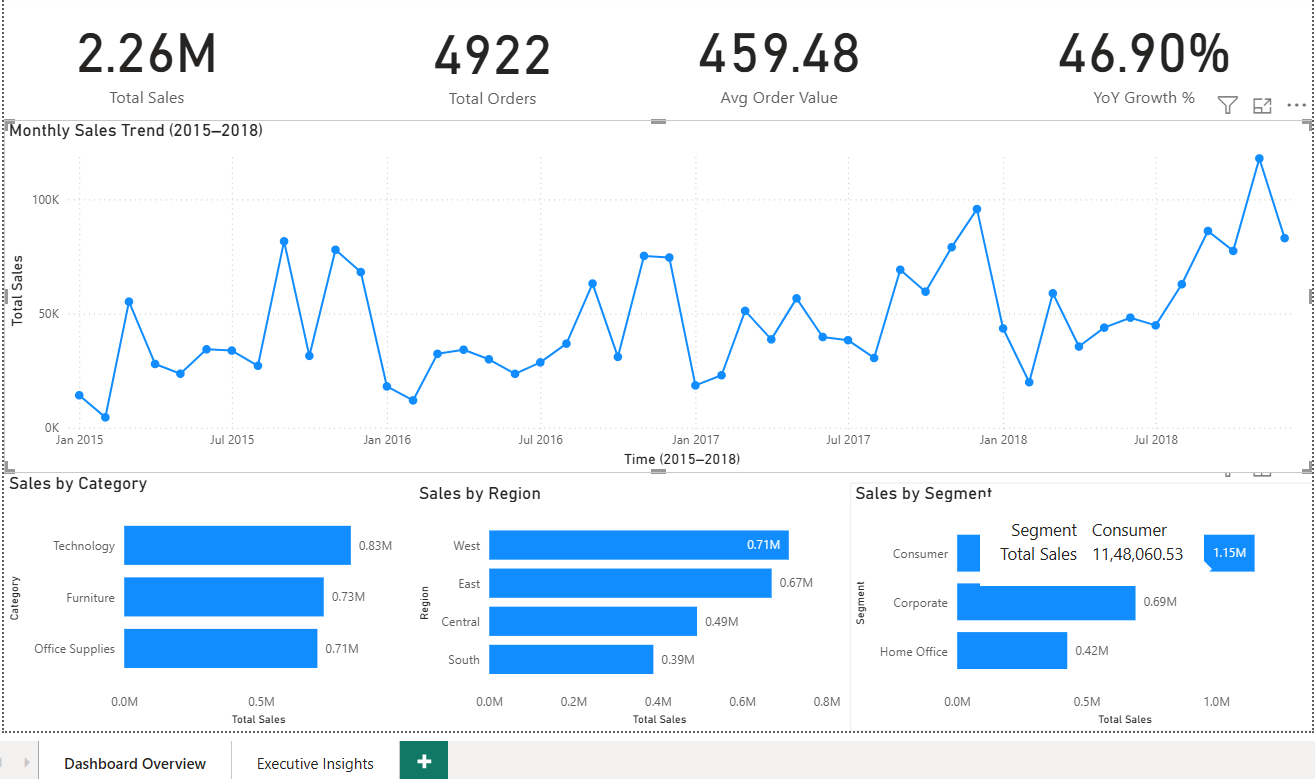

What the dashboard file says about the page in this screenshot:
{"tool":"powerbi","page":{"name":"Sales Performance Dashboard","canvas":[1280,720],"ordinal":0},"visuals":[{"type":"card","fields":{"Values":["DateTable.Total Sales"]},"box":[0,0,280,121.4],"z":0},{"type":"card","fields":{"Values":["DateTable.YoY Growth %"]},"box":[951.2,0,328.8,121.2],"z":1000},{"type":"card","fields":{"Values":["DateTable.Total Orders"]},"box":[317.1,1.4,322.9,121.4],"z":2000},{"type":"card","fields":{"Values":["DateTable.Avg Order Value"]},"box":[577.1,0,362.9,121.4],"z":3000},{"type":"lineChart","title":"Monthly Sales Trend (2015–2018)","fields":{"Category":["DateTable.MonthStart1"],"Y":["DateTable.Total Sales"]},"box":[0,157.7,1280.3,309.4],"z":4000},{"type":"clusteredBarChart","title":"Sales by Category","fields":{"Category":["train.Category"],"Y":["DateTable.Total Sales"]},"box":[0,467.5,400,252.5],"z":5000},{"type":"clusteredBarChart","title":"Sales by Region","fields":{"Category":["train.Region"],"Y":["DateTable.Total Sales"]},"box":[401.2,477.5,426.2,242.5],"z":6000},{"type":"clusteredBarChart","title":"Sales by Segment","fields":{"Category":["train.Segment"],"Y":["DateTable.Total Sales"]},"box":[827.5,477.5,452.5,242.5],"z":7000},{"type":"slicer","fields":{"Values":["DateTable.Year"]},"box":[0,121.1,1266.9,36.7],"z":7001}]}

Visuals, with their boxes on the page's 1280x720 design canvas (x1, y1, x2, y2). These are canvas units, not pixel positions in the 1315x779 screenshot, which may show the page scaled, cropped or inside an application window:
card - DateTable.Total Sales: pyautogui.locateOnScreen(0, 0, 280, 121)
card - DateTable.YoY Growth %: pyautogui.locateOnScreen(951, 0, 1280, 121)
card - DateTable.Total Orders: pyautogui.locateOnScreen(317, 1, 640, 123)
card - DateTable.Avg Order Value: pyautogui.locateOnScreen(577, 0, 940, 121)
"Monthly Sales Trend (2015–2018)" lineChart: pyautogui.locateOnScreen(0, 158, 1280, 467)
"Sales by Category" clusteredBarChart: pyautogui.locateOnScreen(0, 468, 400, 720)
"Sales by Region" clusteredBarChart: pyautogui.locateOnScreen(401, 478, 827, 720)
"Sales by Segment" clusteredBarChart: pyautogui.locateOnScreen(828, 478, 1280, 720)
slicer - DateTable.Year: pyautogui.locateOnScreen(0, 121, 1267, 158)
